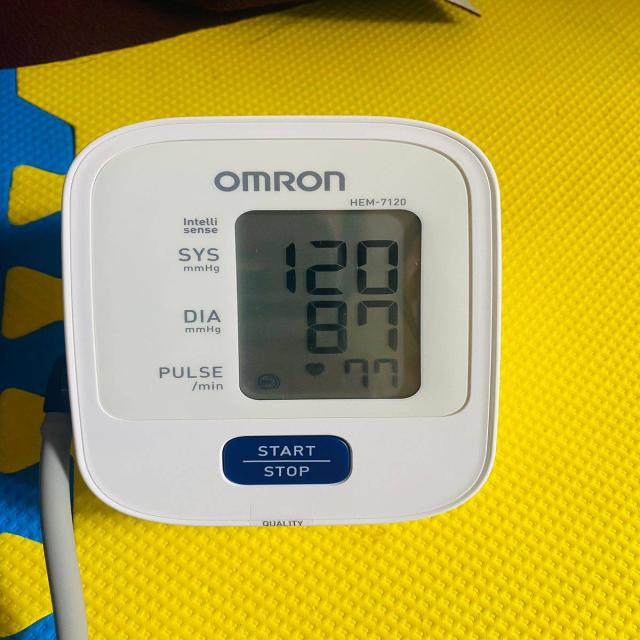bp: (45, 104, 540, 557)
